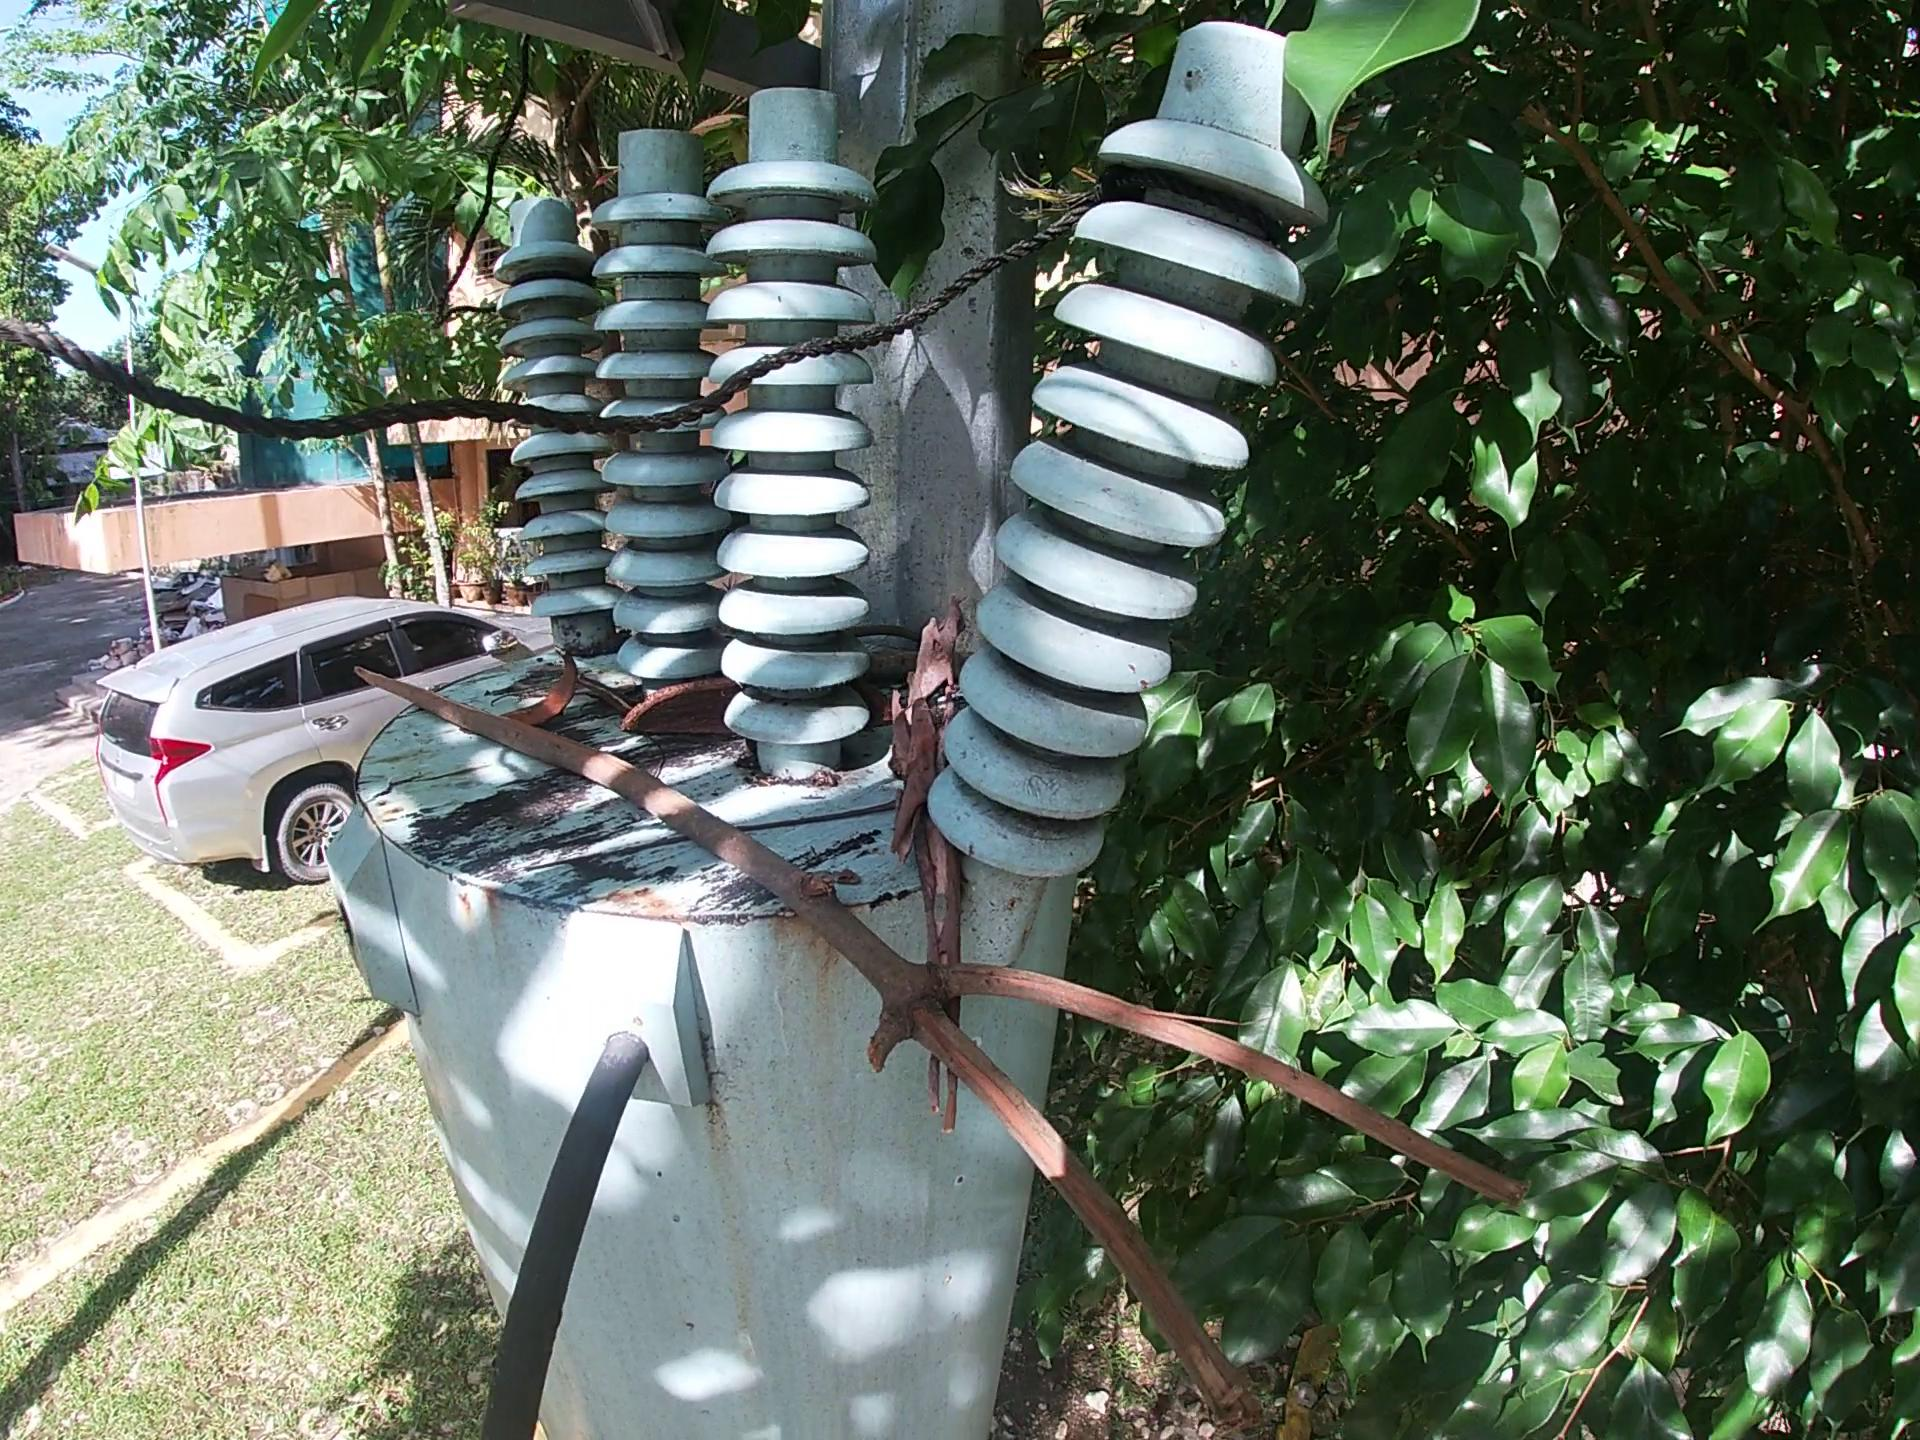mahogany fruit: (626, 673, 736, 765), (520, 644, 596, 722)
tree branch: (355, 650, 1557, 1405), (881, 610, 983, 1122), (726, 788, 915, 826), (863, 616, 927, 688), (590, 655, 630, 717)
